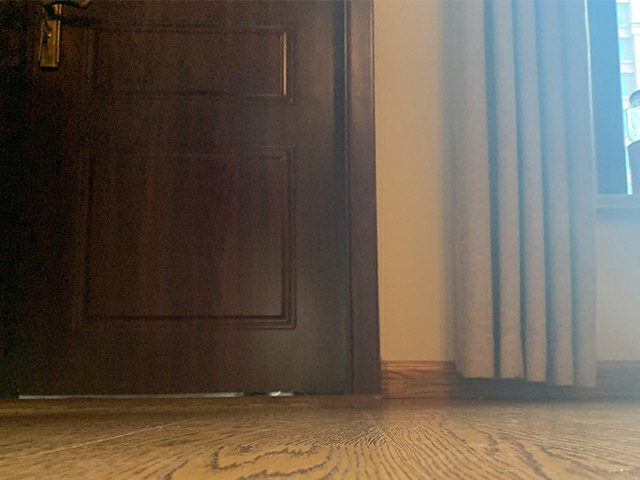curtain: (447, 1, 598, 386)
